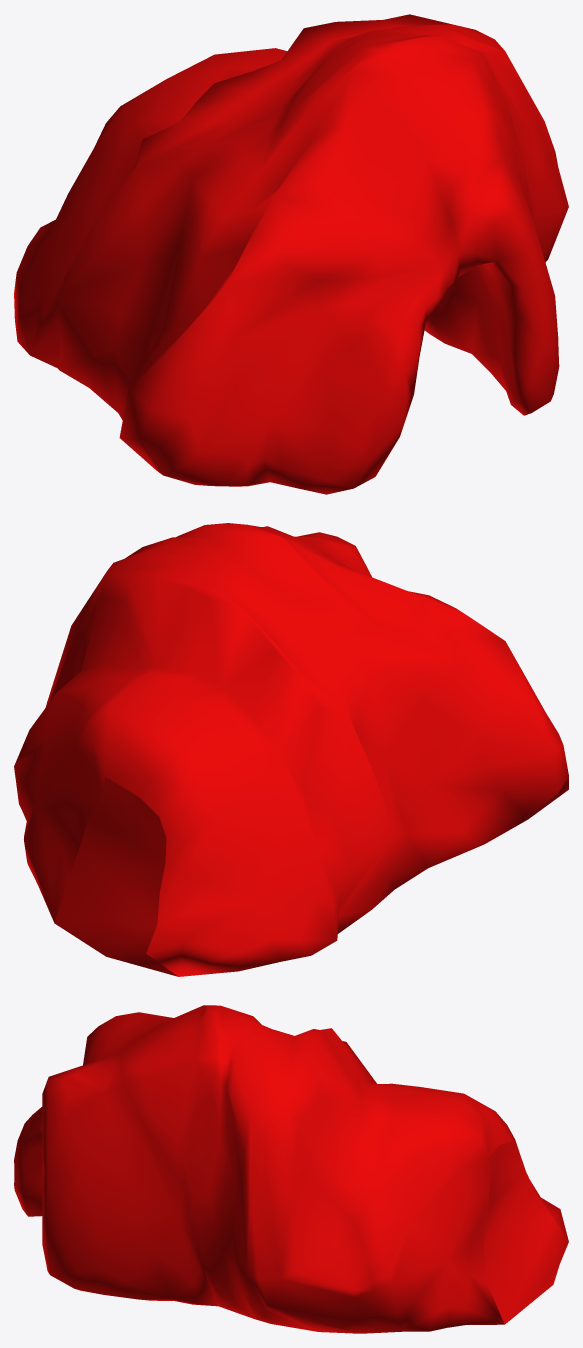
The model's file is cave-level-SP.fbx.
3 renders of one model, top to bottom at view 1: azimuth 30°, elevation 25°; view 2: azimuth 150°, elevation 25°; view 3: azimuth 270°, elevation 25°, orthographic. The views are drawn at different scales.
Parts seen in each view (by area): view 1: cave; view 2: cave; view 3: cave.
Boxes of the visible parts, x1,y1,x2,y2 form: cave: [14, 14, 568, 494]; cave: [14, 523, 568, 976]; cave: [14, 1005, 568, 1333].
Size of the model in its own units: 11.4 by 7.46 by 12.94.
